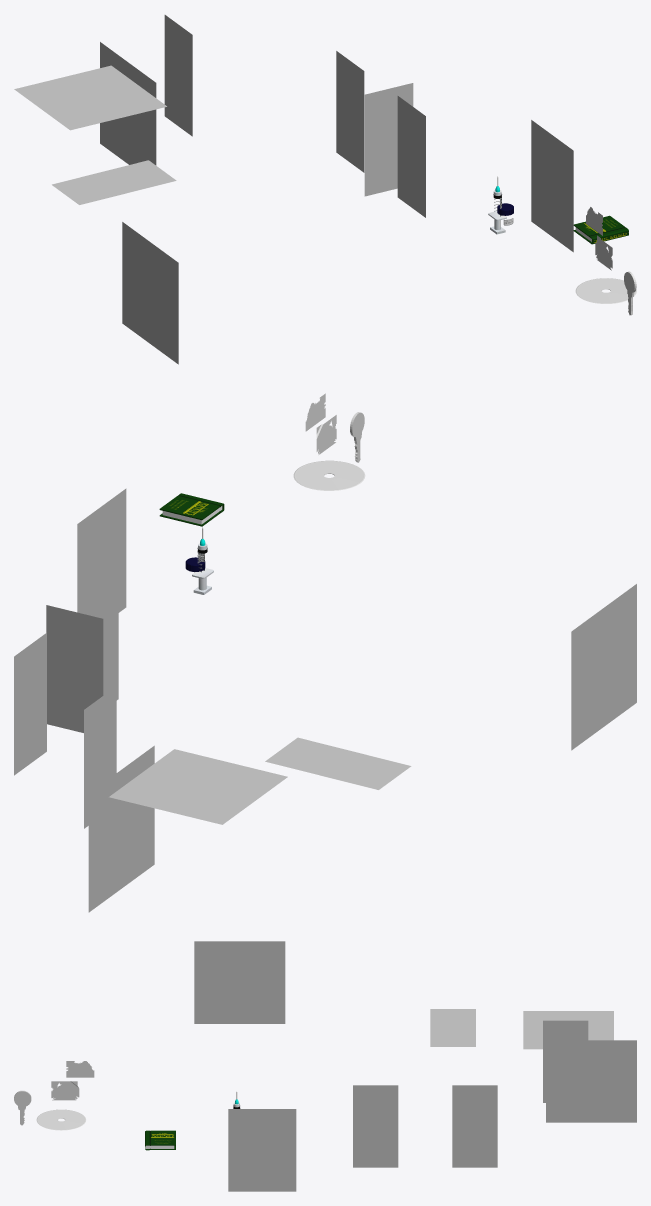
The model's file is PillBottle2.fbx.
3 views of the same model, one above another, from view 1: azimuth 30°, elevation 25°; view 2: azimuth 150°, elevation 25°; view 3: azimuth 270°, elevation 25° (orthographic). The views are drawn at different scales.
Parts seen in each view (by area): view 1: shopping, CD, images, Needle.001, Key (2), extend left side, Needle, Photos, Bookscale, Bookscale.001, Cylinder, Cube; view 2: shopping, CD, Key (2), extend left side, Needle.001, images, Needle, Bookscale.001, Bookscale, Photos, Cylinder, Cube; view 3: shopping, images, Key (2), extend left side, Needle, Photos, Bookscale, CD, Bookscale.001, Cylinder, Cube, Plane, Plane.001.
Boxes of the visible parts, box(x1,y1,x2,y2) form: shopping: box(122, 222, 178, 364); CD: box(14, 65, 166, 130); images: box(531, 120, 573, 252); Needle.001: box(364, 83, 413, 196); Key (2), extend left side: box(100, 42, 156, 165); Needle: box(336, 51, 364, 172); Photos: box(397, 96, 425, 217); Bookscale: box(164, 15, 192, 136); Bookscale.001: box(52, 160, 176, 204); Cylinder: box(575, 278, 636, 303); Cube: box(573, 215, 628, 244); shopping: box(571, 584, 636, 750); CD: box(109, 749, 287, 824); Key (2), extend left side: box(88, 745, 154, 912); Needle.001: box(46, 605, 103, 732); images: box(77, 488, 126, 614); Needle: box(14, 633, 46, 775); Bookscale.001: box(265, 737, 411, 789); Bookscale: box(84, 686, 116, 828); Photos: box(86, 580, 118, 700); Cylinder: box(293, 460, 365, 490); Cube: box(159, 493, 224, 526); shopping: box(194, 941, 285, 1023); images: box(228, 1109, 296, 1191); Key (2), extend left side: box(546, 1040, 636, 1122); Needle: box(452, 1085, 497, 1167); Photos: box(353, 1085, 398, 1167); Bookscale: box(543, 1020, 588, 1102); CD: box(523, 1011, 613, 1049); Bookscale.001: box(430, 1009, 475, 1046); Cylinder: box(36, 1109, 85, 1130); Cube: box(145, 1130, 175, 1150); Plane: box(51, 1081, 79, 1100); Plane.001: box(66, 1061, 94, 1077).
Size of the model in its own units: 431 by 147 by 685.
